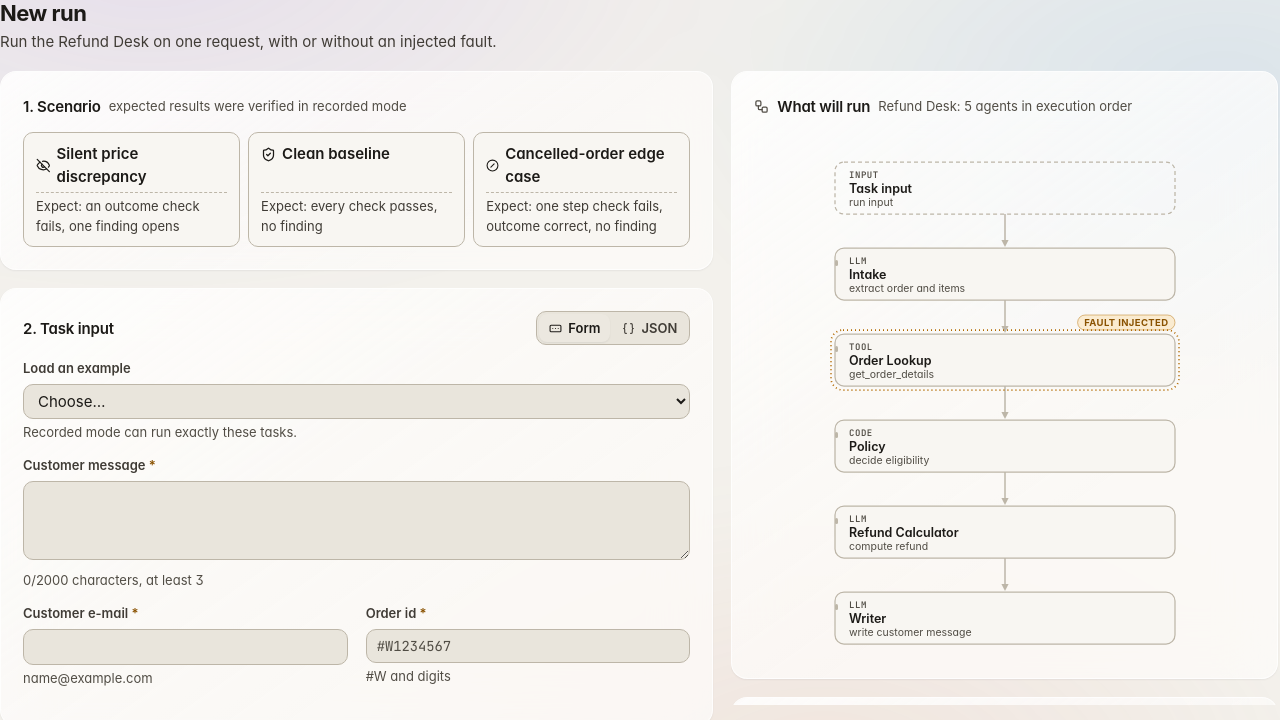
Test: Task Studio scenarios › runs the clean baseline with no fault and the edge case on the cancelled order
The image size is (1280, 720).
Click the radio button labelled "Clean baseline Expect: every check passes, no finding" at {"x": 357, "y": 190}, box top-left (248, 132), bottom-right (465, 247)
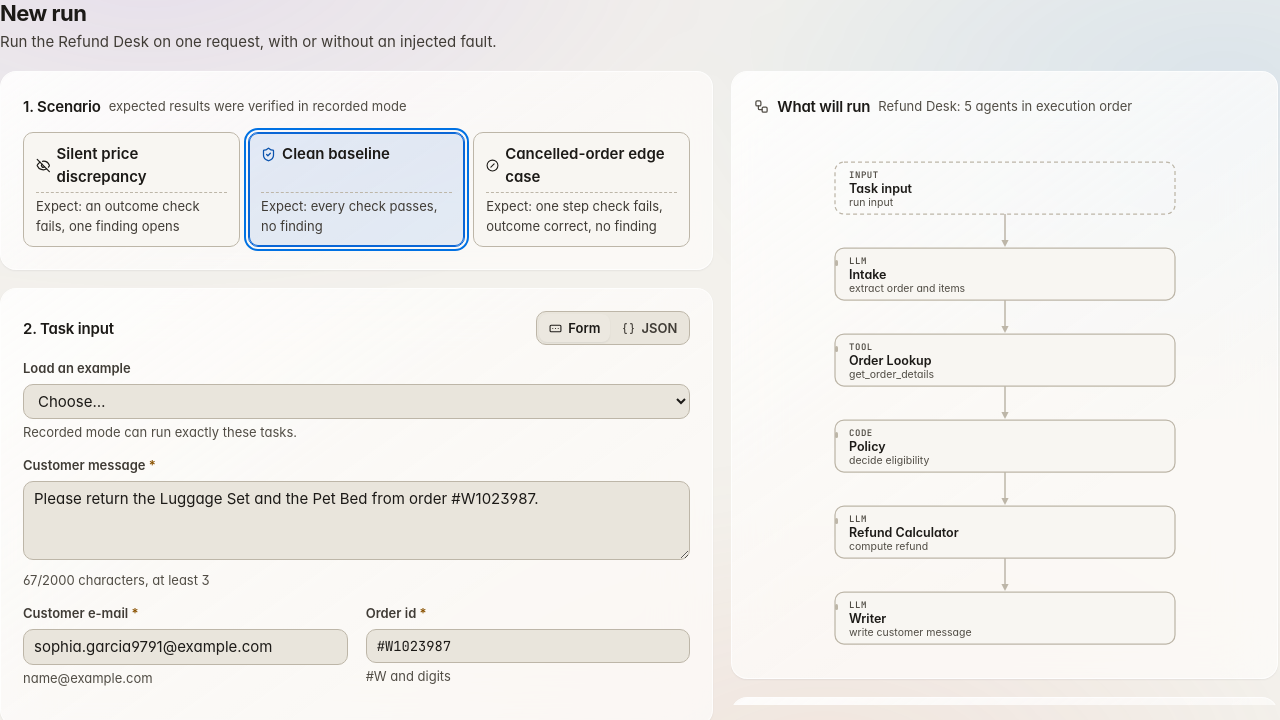
Check: the field labelled "Order id" holds "#W1023987", box top-left (366, 629), bottom-right (690, 663)
Click the radio button labelled "Cancelled-order edge case" at {"x": 582, "y": 190}, box top-left (473, 132), bottom-right (690, 247)
(page scrolled)
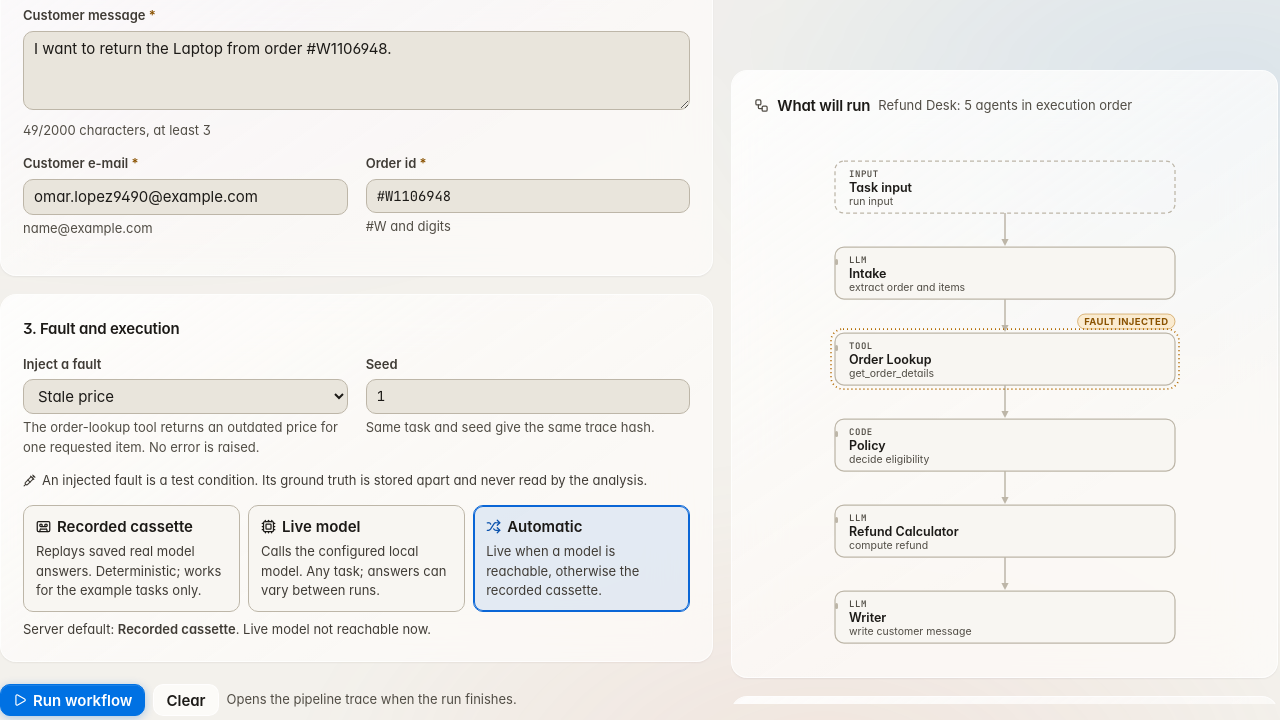
Check: the field labelled "Order id" holds "#W1106948", box top-left (366, 179), bottom-right (690, 213)
Check: the dropdown labelled "Inject a fault" shows "Stale price", box top-left (23, 379), bottom-right (348, 414)
